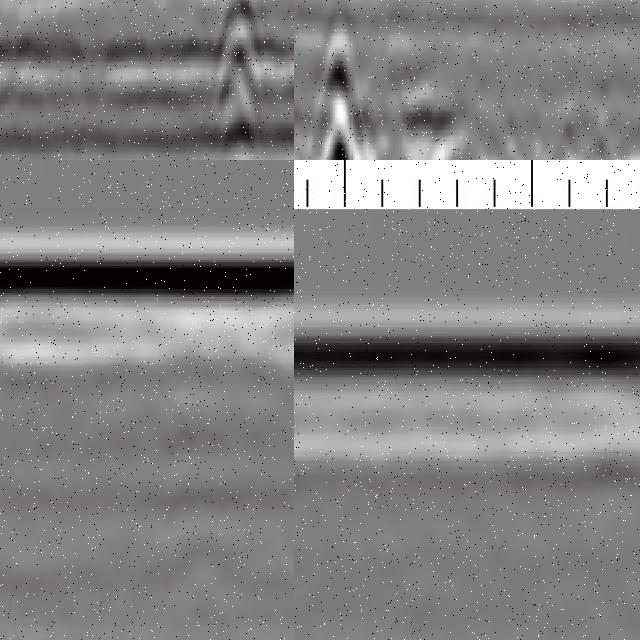crack: (313, 7, 367, 161), (1, 305, 25, 640), (211, 1, 260, 161)
